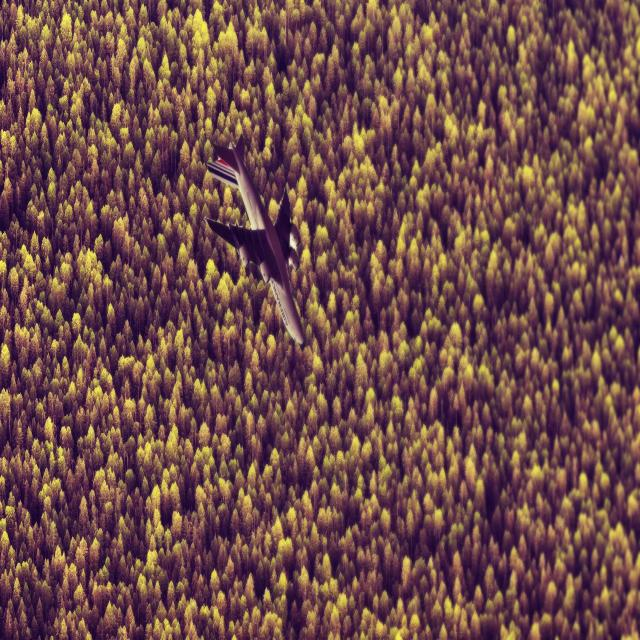airplane: (204, 133, 305, 348)
